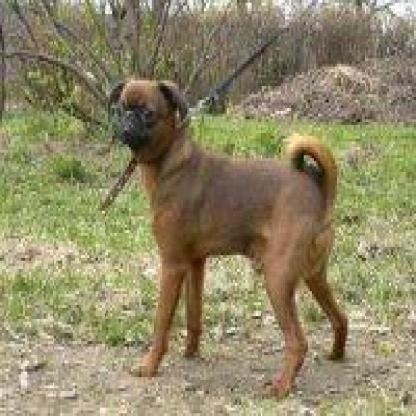Brabancon_griffon: (109, 75, 348, 396)
